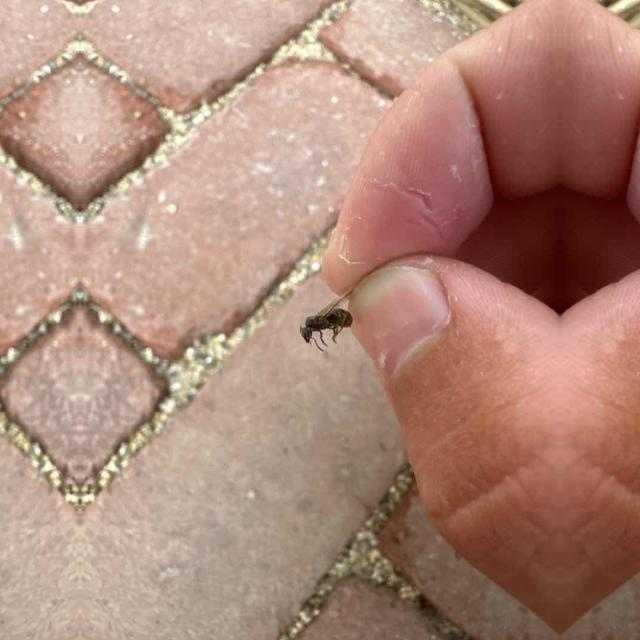Lasius: (288, 288, 362, 357)
